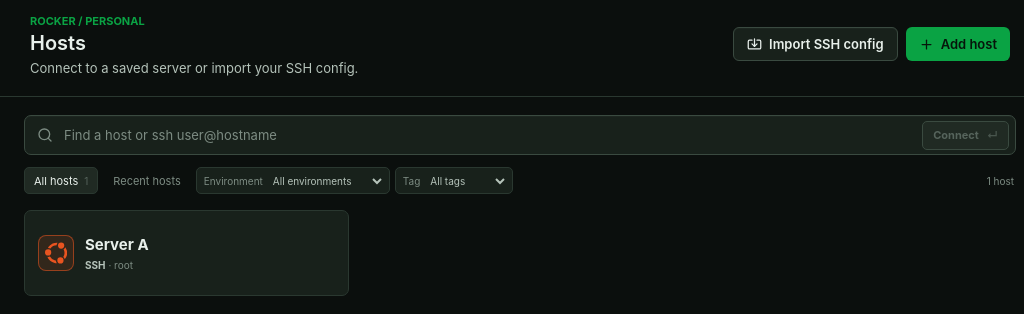
HostList › opens host actions from the card context menu
Expected: the button "Edit host" is not shown
Expected: the button "Duplicate host" is not shown
Right-click the button with aria-label "Server A, SSH, root": {"x": 56, "y": 253} [24,210,349,296]
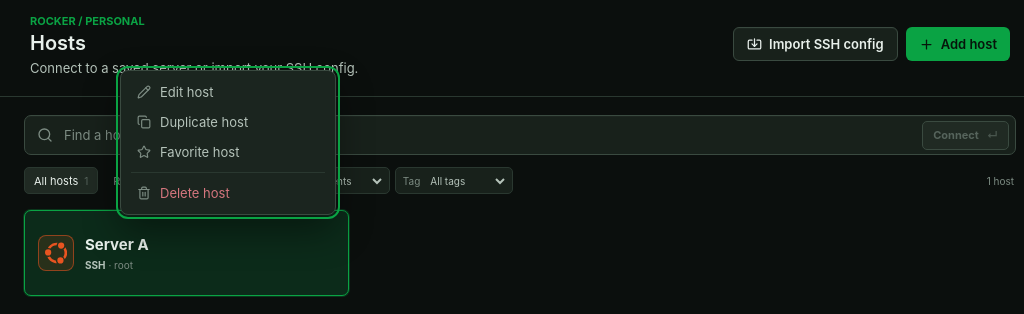
Expected: the menu named "Server A actions" is shown, [120,70,336,215]
Expected: the menu item "Edit host" is shown, [127,77,329,107]
Expected: the menu item "Duplicate host" is shown, [127,107,329,137]
